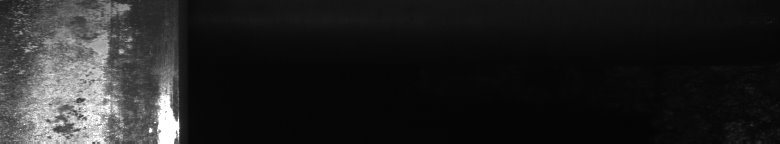kb: (4, 4, 164, 136)
